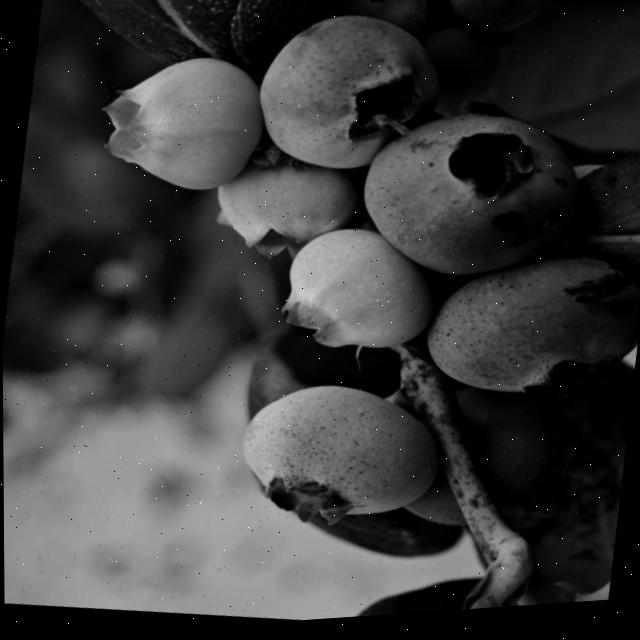RipeBlueBerry: (352, 96, 591, 298), (419, 241, 640, 416)
Semi-RipeBlueBerry: (231, 366, 448, 546), (252, 0, 441, 188)
UnripeBlueBerry: (96, 41, 267, 205), (271, 218, 444, 369)
